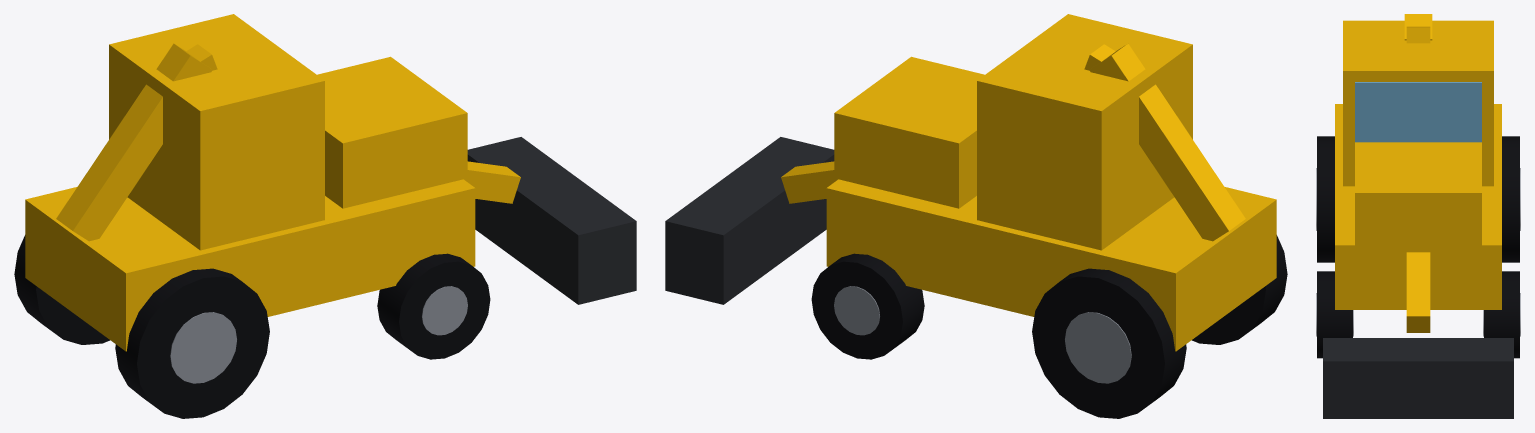
The model's file is backhoe-loader.glb.
3 views of the same model, side by side, from view 1: azimuth 30°, elevation 25°; view 2: azimuth 150°, elevation 25°; view 3: azimuth 270°, elevation 25° (orthographic). The views are drawn at different scales.
Bounding box in the file's own units: 6.18 × 3.6 × 2.57.
